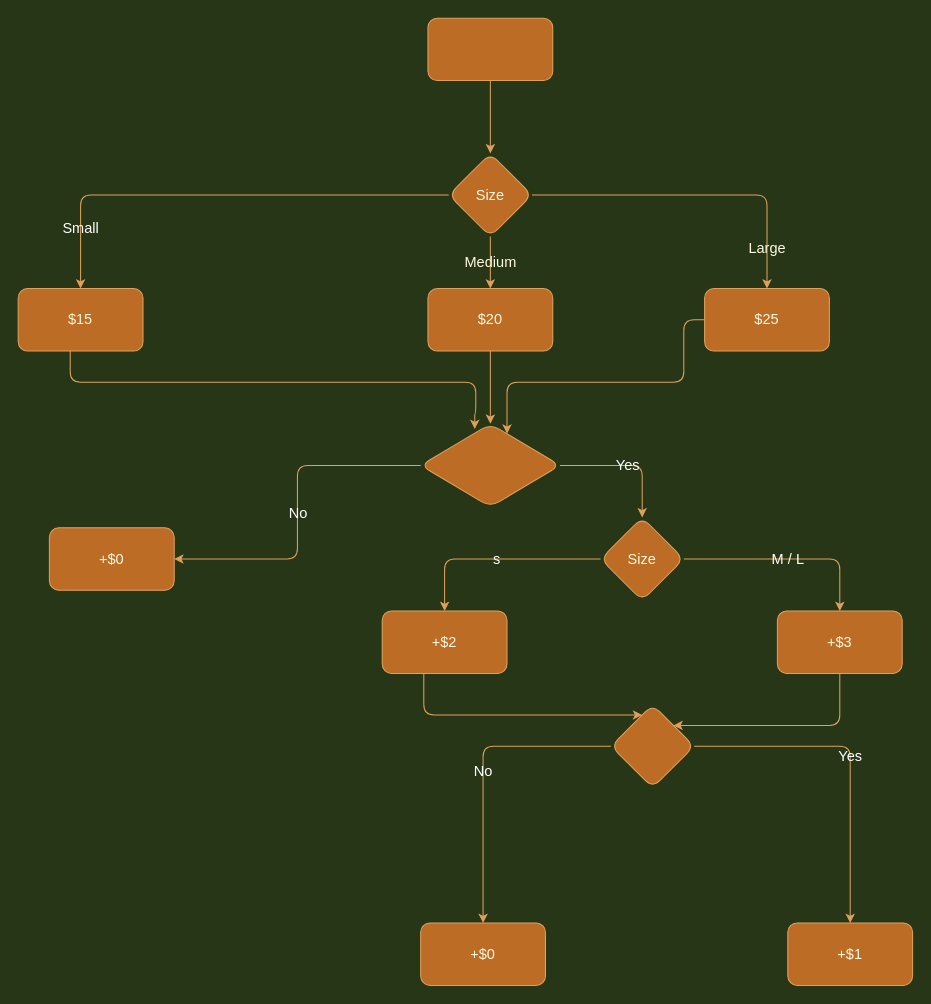
The diagram is 931 pixels wide and 1004 high, and some of its shapes have lost their labels. The centre of each missing label's shape, as x and y in pixels:
"Extra Cheese" goes at (652,746).
"Start" goes at (490,49).
"Want pepperoni" goes at (490,465).
